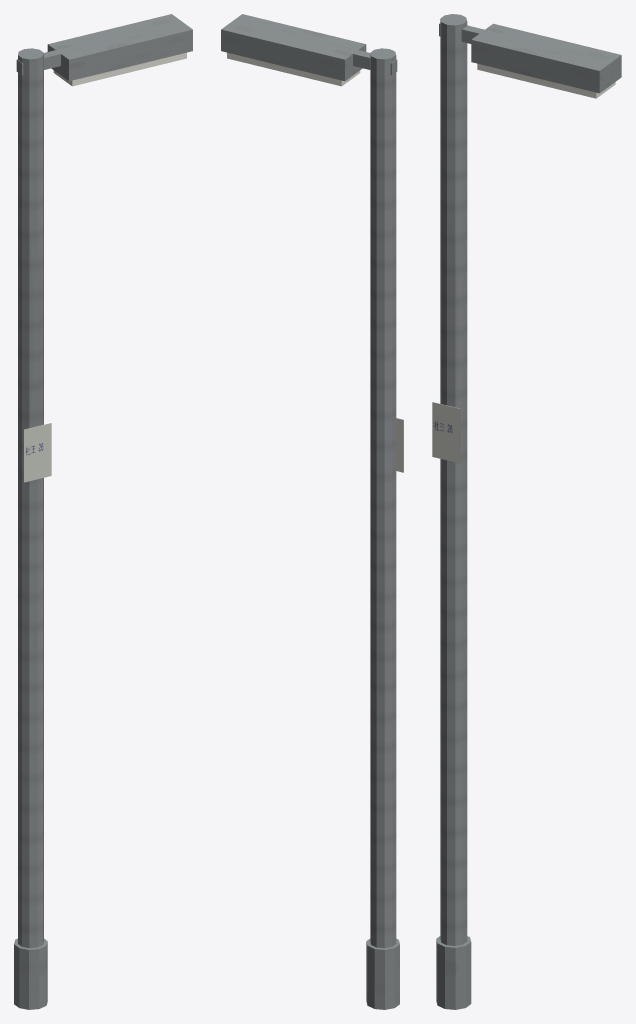
The model's file is streetlight.glb.
The picture shows the model from 3 angles, left to right: view 1: azimuth 30°, elevation 25°; view 2: azimuth 150°, elevation 25°; view 3: azimuth 330°, elevation 25°; orthographic projection. The views are drawn at different scales.
Visible parts, largest first — view 1: streetlight; view 2: streetlight; view 3: streetlight.
Boxes of the visible parts, x1,y1,x2,y2 form: streetlight: [14, 14, 192, 1009]; streetlight: [221, 14, 403, 1009]; streetlight: [432, 14, 621, 1009].
Size of the model in its own units: 0.7218 by 3.95 by 0.16.
Materials: 1 (1 with a texture image).
